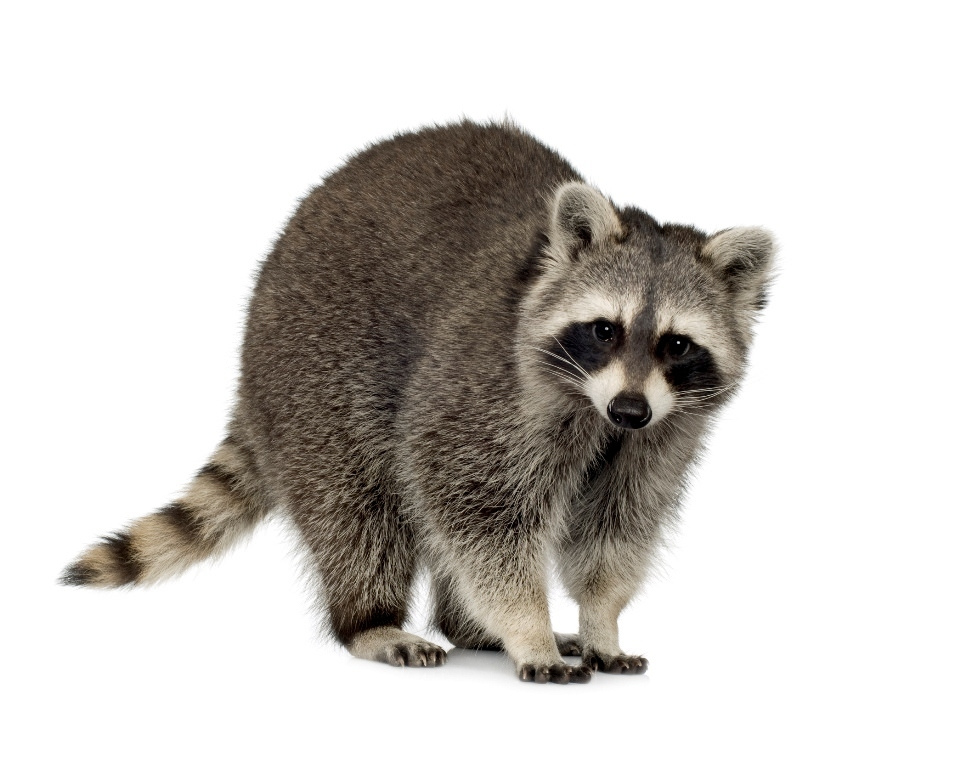raccoon: (75, 98, 802, 703)
